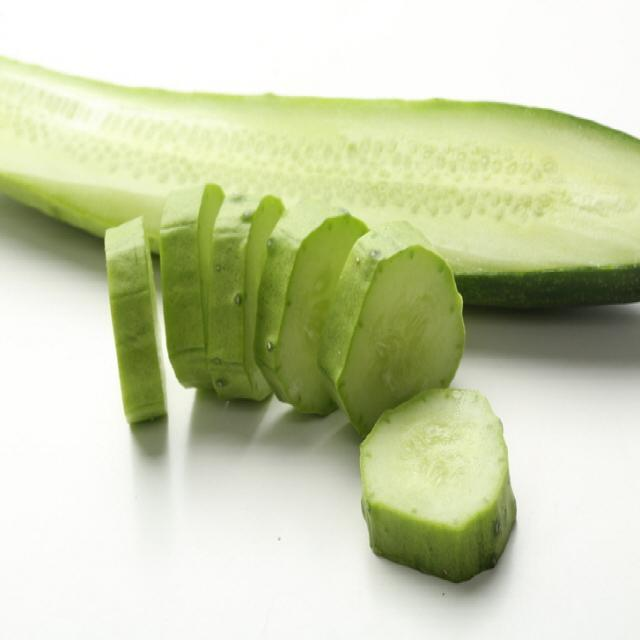cucumber: (0, 33, 640, 340), (246, 185, 490, 484), (339, 376, 551, 582), (71, 202, 194, 458), (162, 136, 260, 428)
